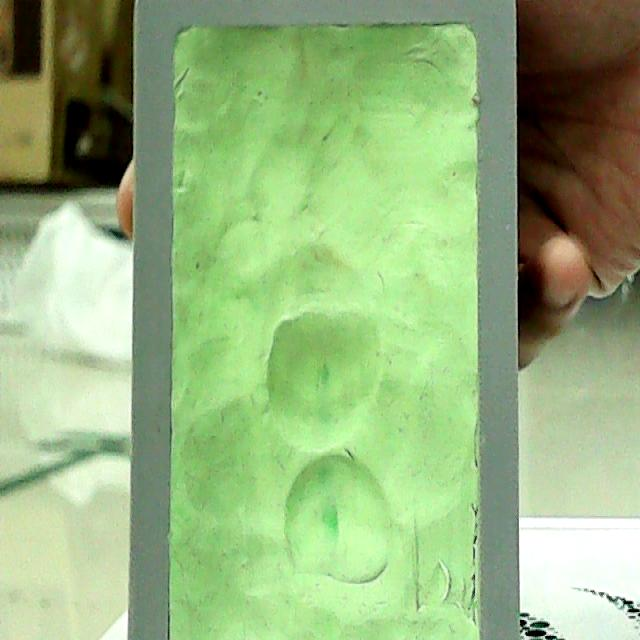block: (126, 0, 521, 633)
